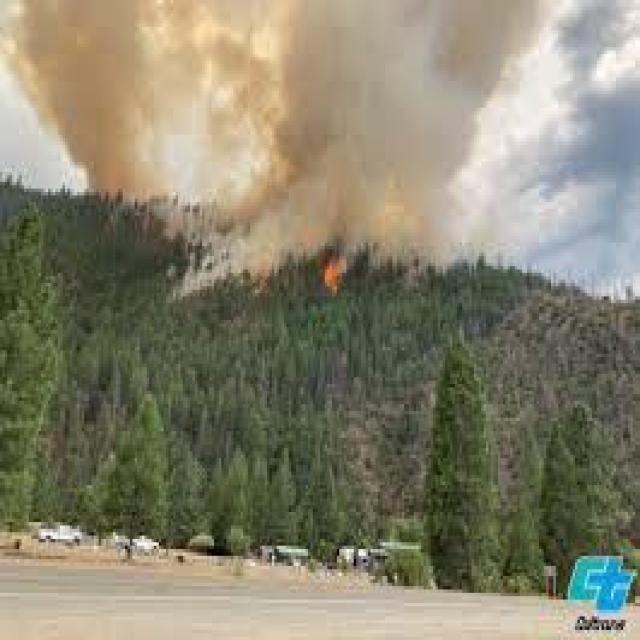Fire: (310, 222, 353, 308)
Smoke: (172, 0, 469, 301), (19, 0, 166, 212)
